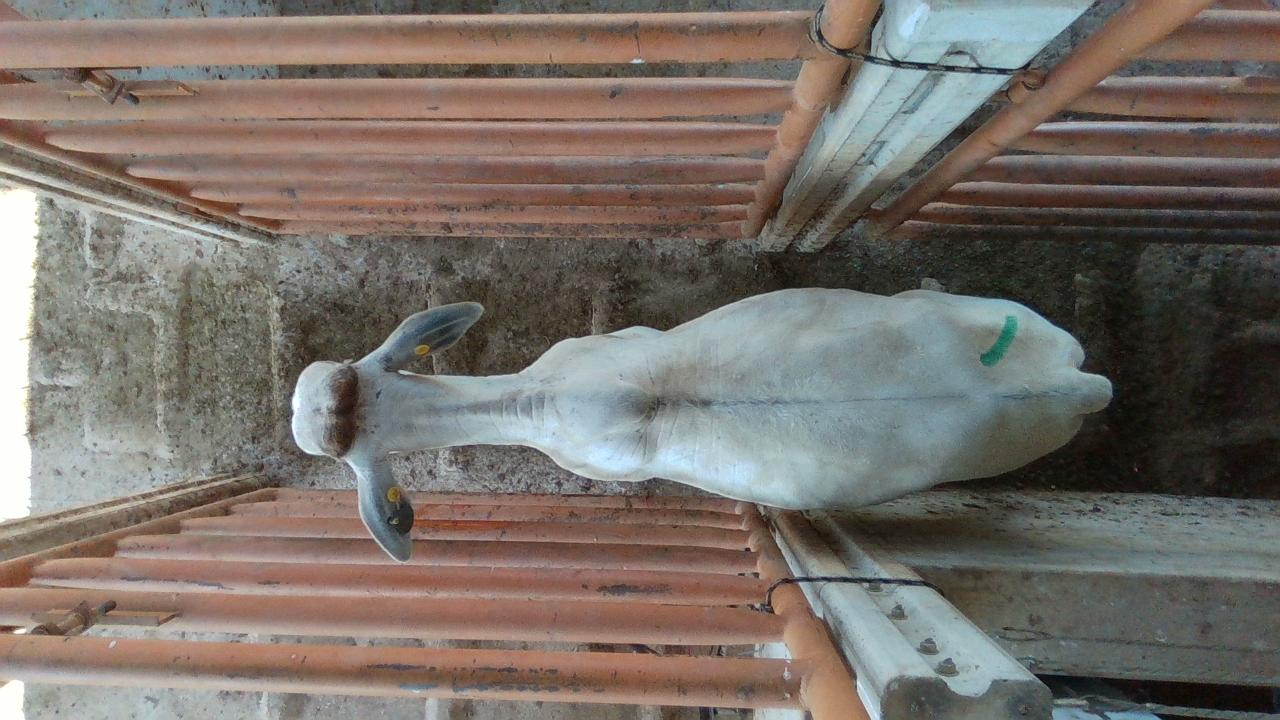cattle: (289, 281, 1113, 563)
